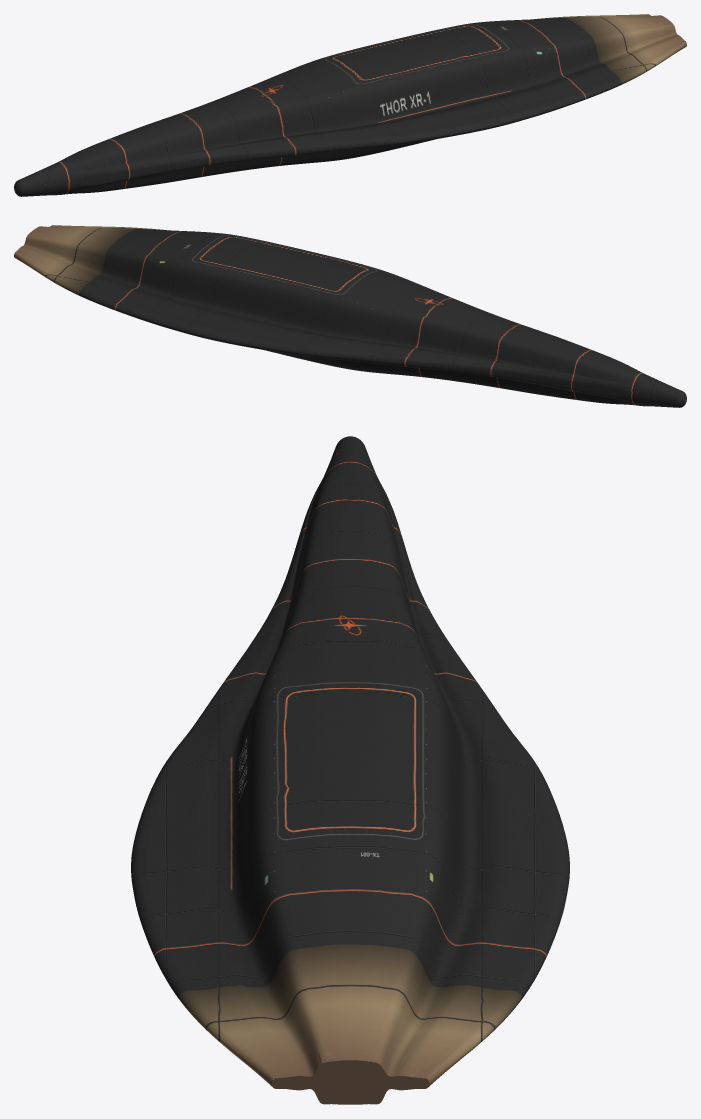
Rendered from thor.glb.
3 renders of one model, top to bottom at view 1: azimuth 30°, elevation 25°; view 2: azimuth 150°, elevation 25°; view 3: azimuth 270°, elevation 25°, orthographic. The views are drawn at different scales.
Visible parts, largest first — view 1: Thor XR-1 • supplied CAD and livery; view 2: Thor XR-1 • supplied CAD and livery; view 3: Thor XR-1 • supplied CAD and livery.
Boxes of the visible parts, box(x1,y1,x2,y2) form: Thor XR-1 • supplied CAD and livery: box(14, 14, 686, 196); Thor XR-1 • supplied CAD and livery: box(14, 225, 686, 407); Thor XR-1 • supplied CAD and livery: box(131, 436, 569, 1104).
Size of the model in its own units: 3.1 by 0.3353 by 0.9039.
Materials: 1 (1 with a texture image).
